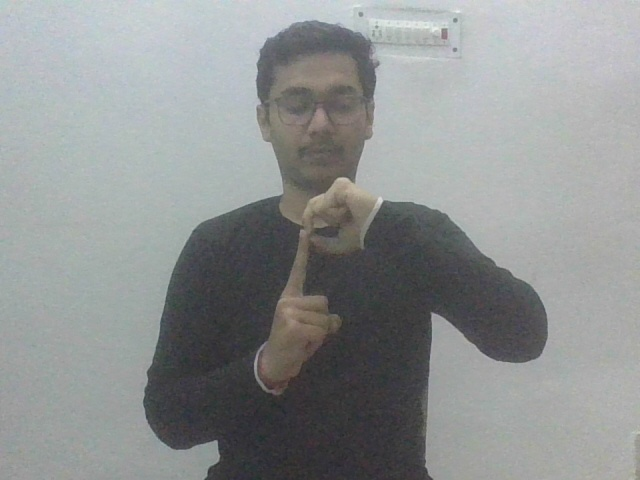P: (253, 176, 385, 393)
